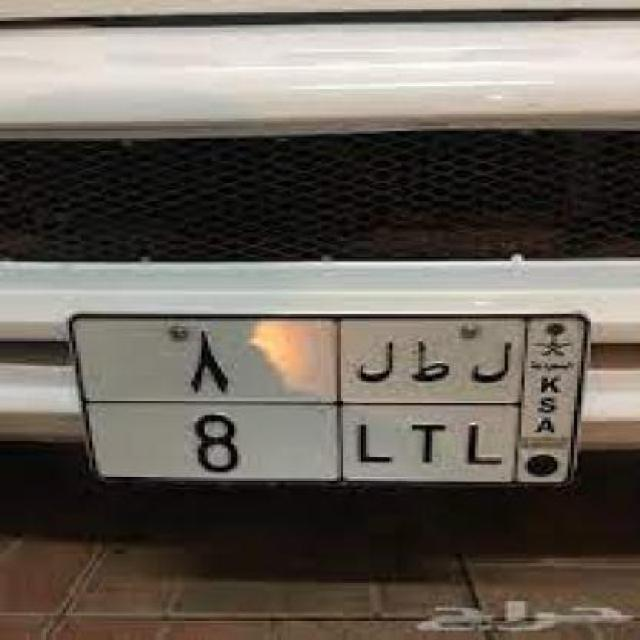license_plate: (66, 308, 594, 494)
